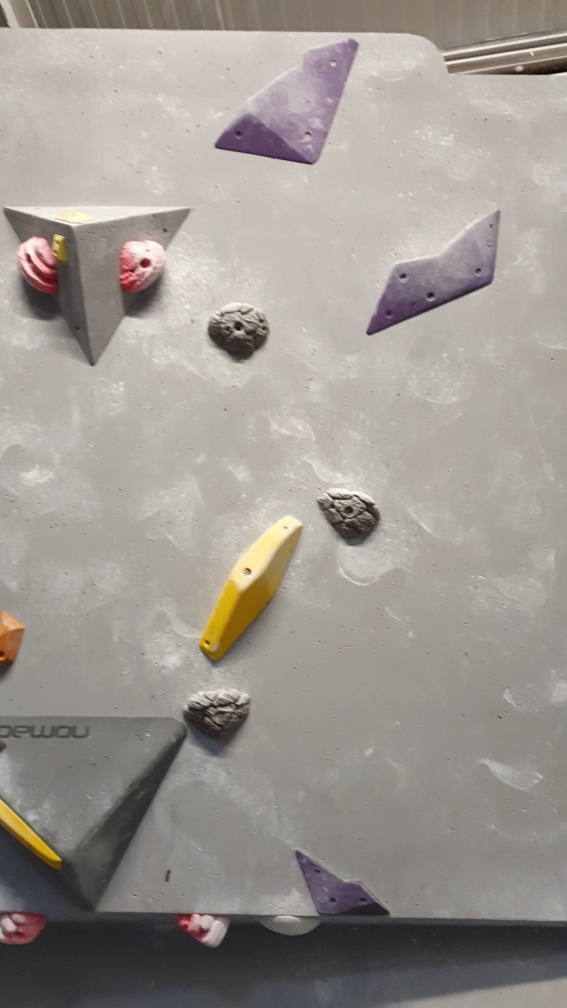Jug: (181, 682, 254, 747), (202, 302, 277, 364), (115, 235, 173, 299), (315, 487, 383, 541), (18, 233, 62, 303), (185, 910, 236, 953)
Pinch: (198, 510, 308, 663)
